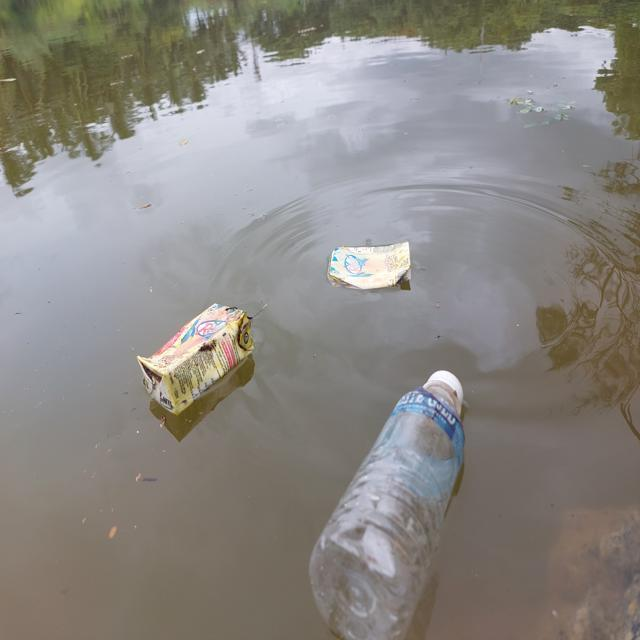paper: (129, 304, 256, 409), (317, 229, 421, 301)
waterbottle: (309, 354, 479, 640)
